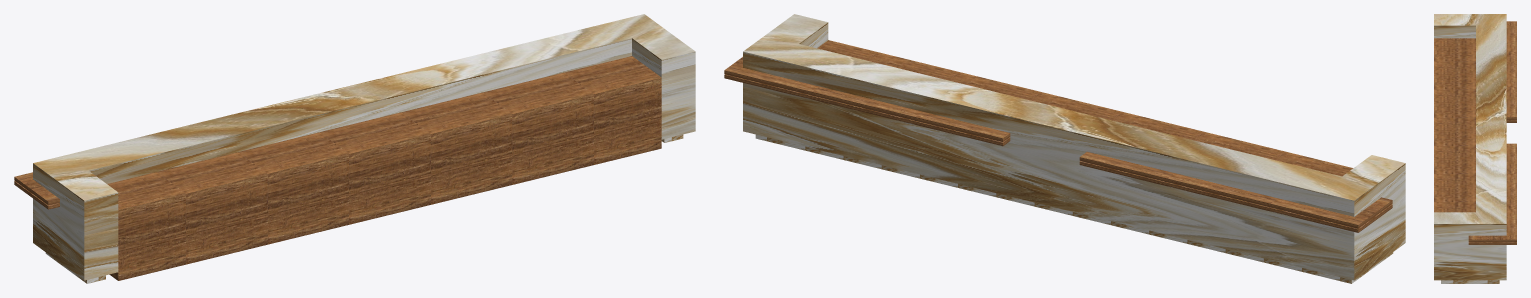
The model's file is ADM_Counter.fbx.
3 views of the same model, side by side, from view 1: azimuth 30°, elevation 25°; view 2: azimuth 150°, elevation 25°; view 3: azimuth 270°, elevation 25° (orthographic). The views are drawn at different scales.
Visible parts, largest first — view 1: ADM_Counter; view 2: ADM_Counter; view 3: ADM_Counter.
Part boxes in pixels (x1=…): ADM_Counter: x1=14, y1=14, x2=695, y2=283; ADM_Counter: x1=724, y1=14, x2=1405, y2=283; ADM_Counter: x1=1434, y1=14, x2=1516, y2=283.
Size of the model in its own units: 855 by 114 by 137.
